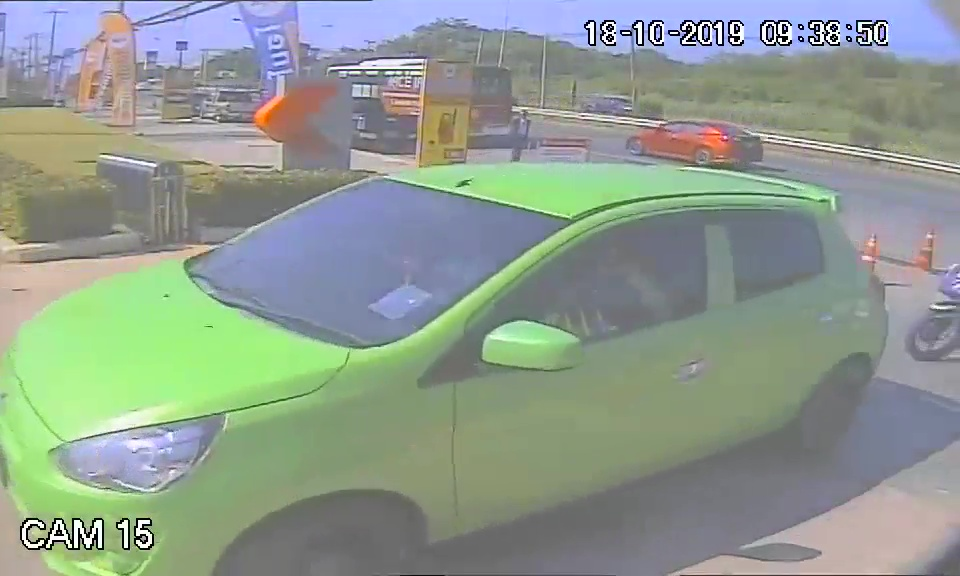sedan: (8, 162, 760, 575)
